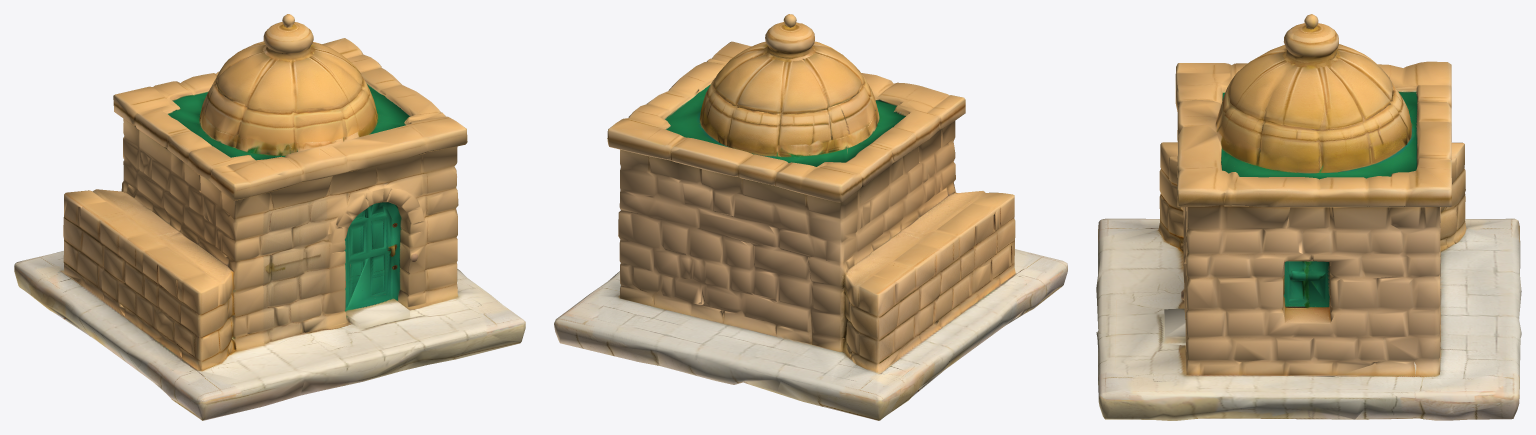
File: house.glb
The picture shows the model from 3 angles, left to right: view 1: azimuth 30°, elevation 25°; view 2: azimuth 150°, elevation 25°; view 3: azimuth 270°, elevation 25°; orthographic projection. The views are drawn at different scales.
Bounding box in the file's own units: 1.91 × 1.63 × 1.89.
Materials: 1 (1 with a texture image).
